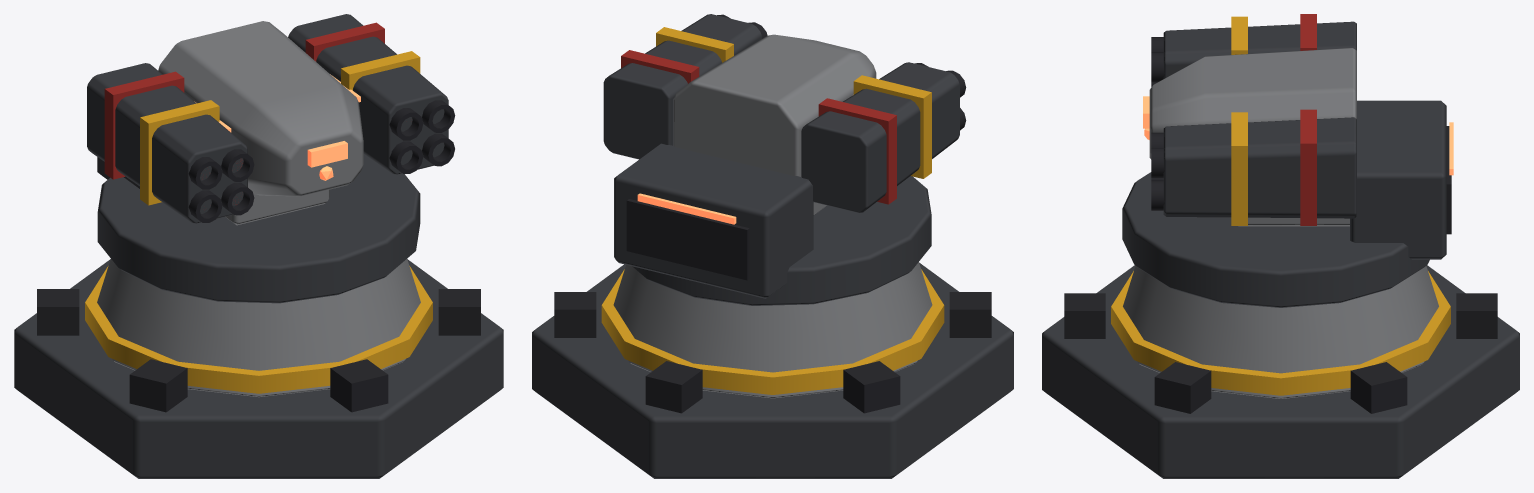
The model's file is turret.glb.
The picture shows the model from 3 angles, left to right: view 1: azimuth 30°, elevation 25°; view 2: azimuth 150°, elevation 25°; view 3: azimuth 270°, elevation 25°; orthographic projection. The views are drawn at different scales.
Parts seen in each view (by area): view 1: Base, Pitch, Yaw, Sensor; view 2: Base, Pitch, Yaw; view 3: Base, Pitch, Yaw.
Part boxes in pixels (box(x1,y1,x2,y2)): Base: box(14, 259, 503, 478); Pitch: box(87, 14, 455, 223); Yaw: box(97, 154, 420, 303); Sensor: box(307, 141, 347, 180); Base: box(532, 262, 1013, 478); Pitch: box(603, 14, 966, 212); Yaw: box(614, 143, 931, 305); Base: box(1042, 265, 1519, 478); Pitch: box(1149, 14, 1356, 225); Yaw: box(1122, 100, 1453, 307).
Size of the model in its own units: 3.03 by 2.6 by 3.46.
